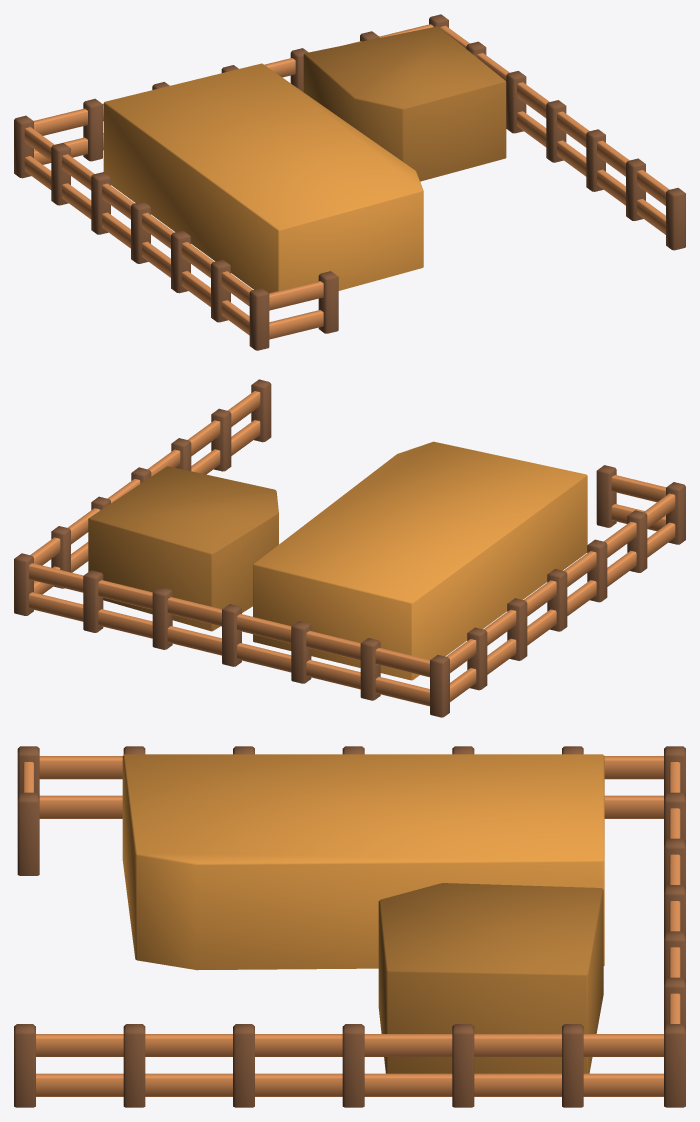
The model's file is Field-1.fbx.
3 views of the same model, one above another, from view 1: azimuth 30°, elevation 25°; view 2: azimuth 150°, elevation 25°; view 3: azimuth 270°, elevation 25° (orthographic). The views are drawn at different scales.
Parts seen in each view (by area): view 1: Cube.1082, Cube.1097, Cube.1086, Cube.1088, Cube.1087, Cube.1084, Cube.1083, Cube.1089, Cube.1085, Cube.1090; view 2: Cube.1082, Cube.1097, Cube.1085, Cube.1083, Cube.1086, Cube.1084, Cube.1088, Cube.1087, Cube.1089, Cube.1090; view 3: Cube.1082, Cube.1097, Cube.1088, Cube.1087, Cube.1086, Cube.1083, Cube.1089, Cube.1085, Cube.1084.
Boxes of the visible parts, x1,y1,x2,y2 form: Cube.1082: (103,63,423,293); Cube.1097: (303,26,506,181); Cube.1086: (24,127,252,335); Cube.1088: (440,25,669,234); Cube.1087: (466,41,685,250); Cube.1084: (51,143,230,322); Cube.1083: (14,14,448,178); Cube.1089: (249,271,338,350); Cube.1085: (34,24,433,164); Cube.1090: (269,281,323,339); Cube.1082: (253,441,587,680); Cube.1097: (88,466,278,631); Cube.1085: (29,563,429,706); Cube.1083: (14,553,449,717); Cube.1086: (446,493,675,701); Cube.1084: (467,510,647,690); Cube.1088: (30,391,260,594); Cube.1087: (51,379,271,588); Cube.1089: (596,465,685,544); Cube.1090: (611,475,665,531); Cube.1082: (122,754,604,970); Cube.1097: (378,883,603,1073); Cube.1088: (36,1034,663,1096); Cube.1087: (14,1024,583,1107); Cube.1086: (39,756,663,818); Cube.1083: (664,746,685,1107); Cube.1089: (17,746,39,875); Cube.1085: (669,762,680,1023); Cube.1084: (123,746,583,754).
Size of the model in its own units: 180 by 31.39 by 178.
